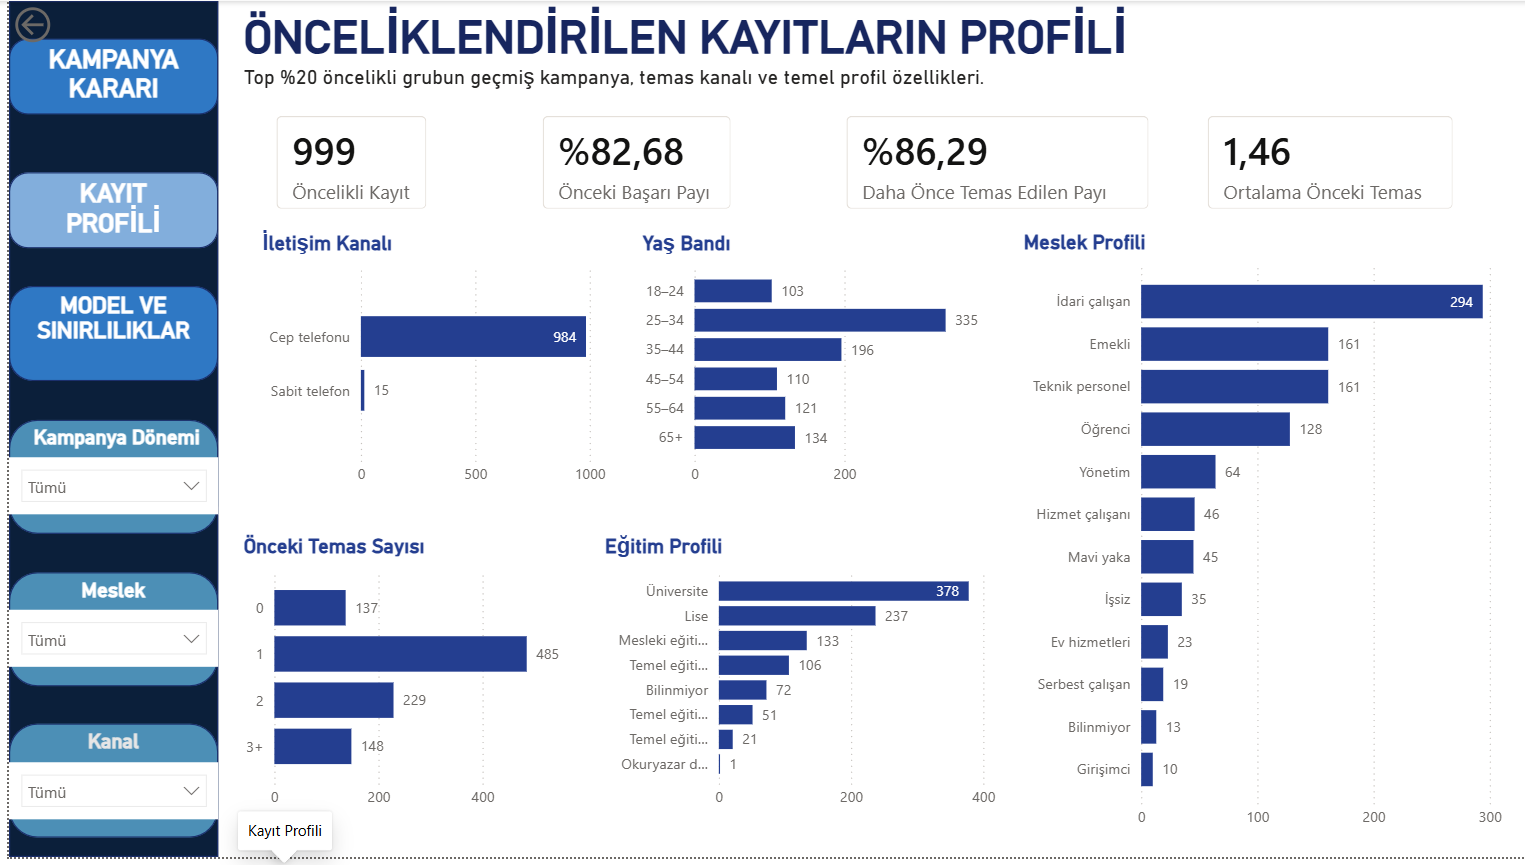

The page's visual inventory and layout, read from the dashboard file:
{"tool":"powerbi","page":{"name":"Kayıt Profili","canvas":[1280,720],"ordinal":1},"visuals":[{"type":"shape","box":[0,0,176,720],"z":0},{"type":"textbox","box":[192,0,896,64],"z":1000},{"type":"shape","box":[0,480,176,96],"z":2000},{"type":"shape","box":[0,608,176,96],"z":3000},{"type":"shape","box":[0,352,176,96],"z":4000},{"type":"shape","box":[0,240,176,80],"z":5000},{"type":"textbox","box":[16,352,160,32],"z":6000},{"type":"textbox","box":[16,480,144,32],"z":7000},{"type":"textbox","box":[16,608,144,32],"z":8000},{"type":"shape","box":[0,32,176,64],"z":9000},{"type":"shape","box":[0,144,176,64],"z":10000},{"type":"textbox","box":[16,144,144,80],"z":11000},{"type":"textbox","box":[0,32,176,64],"z":12000},{"type":"textbox","box":[0,240,176,80],"z":14000},{"type":"actionButton","box":[0,0,100,40],"z":15000},{"type":"slicer","fields":{"Values":["CampaignDashboard.contact_tr"]},"box":[0,640,176,48],"z":16000},{"type":"slicer","fields":{"Values":["CampaignDashboard.job_tr"]},"box":[0,512,176,48],"z":17000},{"type":"slicer","fields":{"Values":["CampaignDashboard.campaign_period_id"]},"box":[0,384,176,48],"z":18000},{"type":"textbox","box":[192,48,1040,32],"z":19000},{"type":"cardVisual","fields":{"Data":["CampaignDashboard.Öncelikli Kayıt Sayısı"]},"box":[208,80,160,112],"z":20000},{"type":"cardVisual","fields":{"Data":["CampaignDashboard.Önceki Başarı Payı"]},"box":[432,80,192,112],"z":21000},{"type":"cardVisual","fields":{"Data":["CampaignDashboard.Ortalama Önceki Temas"]},"box":[992,80,240,112],"z":22000},{"type":"cardVisual","fields":{"Data":["CampaignDashboard.Daha Önce Temas Edilen Payı"]},"box":[688,80,288,112],"z":23000},{"type":"clusteredBarChart","title":"İletişim Kanalı","fields":{"Category":["CampaignDashboard.contact_tr"],"Y":["CampaignDashboard.Öncelikli Kayıt Sayısı"]},"box":[208,192,320,224],"z":24000},{"type":"clusteredBarChart","title":"Meslek Profili","fields":{"Category":["CampaignDashboard.job_tr"],"Y":["CampaignDashboard.Öncelikli Kayıt Sayısı"]},"box":[848,192,432,512],"z":25000},{"type":"clusteredBarChart","title":"Yaş Bandı","fields":{"Category":["CampaignDashboard.Yaş Bandı"],"Y":["CampaignDashboard.Öncelikli Kayıt Sayısı"]},"box":[528,192,304,224],"z":26000},{"type":"clusteredBarChart","title":"Önceki Temas Sayısı","fields":{"Category":["CampaignDashboard.Önceki Temas Grubu"],"Y":["CampaignDashboard.Öncelikli Kayıt Sayısı"]},"box":[192,448,288,240],"z":27000},{"type":"clusteredBarChart","title":"Eğitim Profili","fields":{"Category":["CampaignDashboard.education_tr"],"Y":["CampaignDashboard.Öncelikli Kayıt Sayısı"]},"box":[496,448,352,240],"z":28000}]}

Visuals, with their boxes on the page's 1280x720 design canvas (x1, y1, x2, y2). These are canvas units, not pixel positions in the 1525x865 screenshot, which may show the page scaled, cropped or inside an application window:
shape: (0,0,176,720)
textbox: (192,0,1088,64)
shape: (0,480,176,576)
shape: (0,608,176,704)
shape: (0,352,176,448)
shape: (0,240,176,320)
textbox: (16,352,176,384)
textbox: (16,480,160,512)
textbox: (16,608,160,640)
shape: (0,32,176,96)
shape: (0,144,176,208)
textbox: (16,144,160,224)
textbox: (0,32,176,96)
textbox: (0,240,176,320)
actionButton: (0,0,100,40)
slicer - CampaignDashboard.contact_tr: (0,640,176,688)
slicer - CampaignDashboard.job_tr: (0,512,176,560)
slicer - CampaignDashboard.campaign_period_id: (0,384,176,432)
textbox: (192,48,1232,80)
cardVisual - CampaignDashboard.Öncelikli Kayıt Sayısı: (208,80,368,192)
cardVisual - CampaignDashboard.Önceki Başarı Payı: (432,80,624,192)
cardVisual - CampaignDashboard.Ortalama Önceki Temas: (992,80,1232,192)
cardVisual - CampaignDashboard.Daha Önce Temas Edilen Payı: (688,80,976,192)
"İletişim Kanalı" clusteredBarChart: (208,192,528,416)
"Meslek Profili" clusteredBarChart: (848,192,1280,704)
"Yaş Bandı" clusteredBarChart: (528,192,832,416)
"Önceki Temas Sayısı" clusteredBarChart: (192,448,480,688)
"Eğitim Profili" clusteredBarChart: (496,448,848,688)
